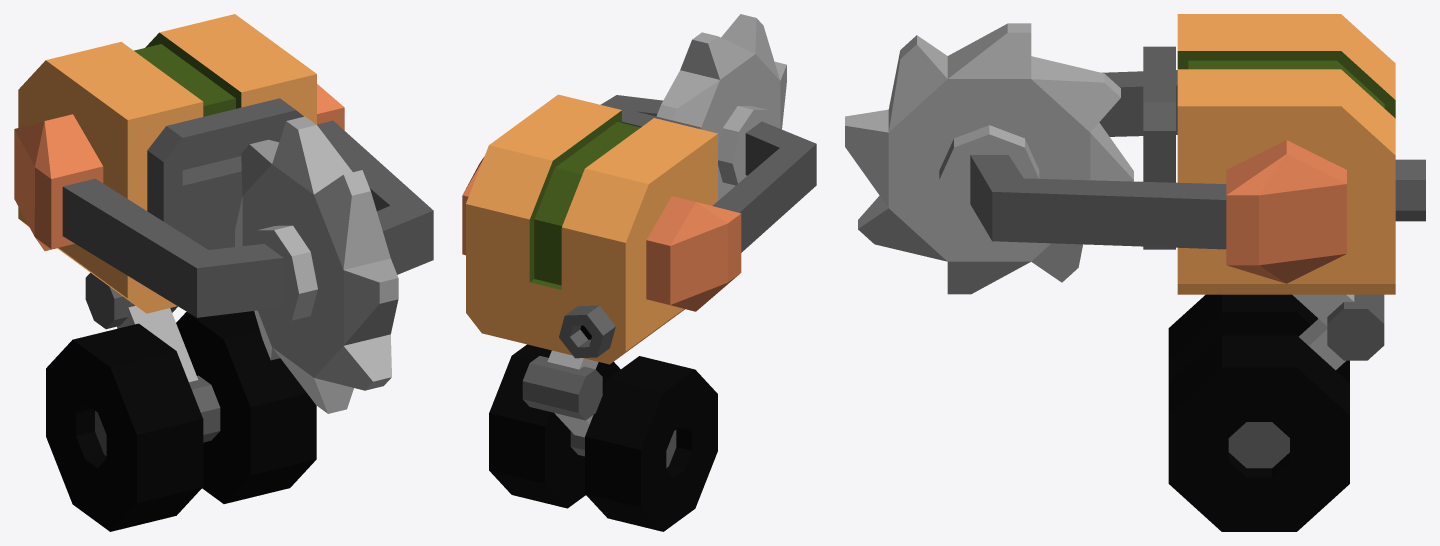
The model's file is CH_Paf.fbx.
The picture shows the model from 3 angles, left to right: view 1: azimuth 30°, elevation 25°; view 2: azimuth 150°, elevation 25°; view 3: azimuth 270°, elevation 25°; orthographic projection. The views are drawn at different scales.
Visible parts, largest first — view 1: PAF_Wheels, PAF_Sawblade, PAF_Body, PAF_SawArms, PAF_Mask, PAF_CritSpot, PAF_Bottom, PAF_Hinge; view 2: PAF_Body, PAF_Wheels, PAF_Sawblade, PAF_CritSpot, PAF_SawArms, PAF_Hinge, PAF_Exhaust, PAF_Mask, PAF_Top, PAF_Bottom; view 3: PAF_Sawblade, PAF_Body, PAF_Wheels, PAF_SawArms, PAF_CritSpot, PAF_Mask, PAF_Hinge, PAF_Exhaust, PAF_Bottom, PAF_Top.
Boxes of the visible parts, bbox=[...] form: PAF_Wheels: bbox=[46, 311, 316, 531]; PAF_Sawblade: bbox=[235, 116, 398, 413]; PAF_Body: bbox=[18, 14, 316, 313]; PAF_SawArms: bbox=[62, 120, 433, 317]; PAF_Mask: bbox=[147, 98, 303, 249]; PAF_CritSpot: bbox=[14, 84, 344, 250]; PAF_Bottom: bbox=[117, 306, 198, 382]; PAF_Hinge: bbox=[85, 273, 177, 329]; PAF_Body: bbox=[466, 94, 717, 364]; PAF_Wheels: bbox=[489, 344, 717, 531]; PAF_Sawblade: bbox=[656, 14, 786, 200]; PAF_CritSpot: bbox=[462, 157, 741, 311]; PAF_SawArms: bbox=[600, 95, 816, 252]; PAF_Hinge: bbox=[522, 356, 602, 420]; PAF_Exhaust: bbox=[559, 305, 615, 358]; PAF_Mask: bbox=[603, 104, 701, 129]; PAF_Top: bbox=[547, 350, 598, 369]; PAF_Bottom: bbox=[554, 413, 593, 437]; PAF_Sawblade: bbox=[845, 23, 1133, 294]; PAF_Body: bbox=[1177, 14, 1395, 294]; PAF_Wheels: bbox=[1168, 294, 1349, 531]; PAF_SawArms: bbox=[970, 70, 1226, 249]; PAF_CritSpot: bbox=[1226, 140, 1346, 283]; PAF_Mask: bbox=[1143, 46, 1175, 249]; PAF_Hinge: bbox=[1327, 294, 1384, 360]; PAF_Exhaust: bbox=[1395, 159, 1425, 221]; PAF_Bottom: bbox=[1299, 319, 1345, 370]; PAF_Top: bbox=[1292, 294, 1354, 325].
Size of the model in its own units: 310 by 466 by 533.
